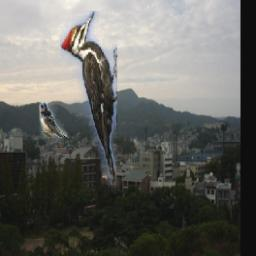Swallow: (39, 102, 74, 138)
Woodpecker: (61, 12, 118, 195)
